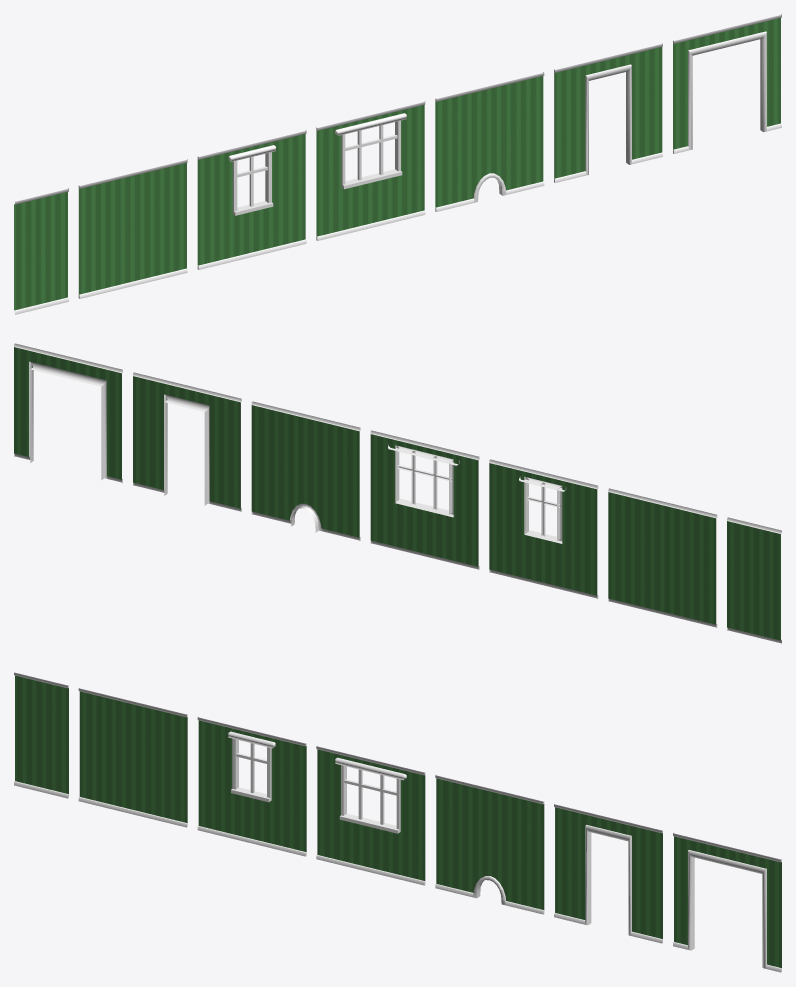
The model's file is Walls.fbx.
3 views of the same model, one above another, from view 1: azimuth 30°, elevation 25°; view 2: azimuth 150°, elevation 25°; view 3: azimuth 330°, elevation 25° (orthographic).
Parts seen in each view (by area): view 1: Wall_Normal, Wall_HouseHole, Wall_Window_Single, Wall_Window_Double, Wall_DoorWay_Small, Wall_Short, Wall_DoorWay_Wide; view 2: Wall_Normal, Wall_HouseHole, Wall_Window_Single, Wall_Window_Double, Wall_DoorWay_Small, Wall_DoorWay_Wide, Wall_Short; view 3: Wall_Normal, Wall_HouseHole, Wall_Window_Single, Wall_Window_Double, Wall_DoorWay_Small, Wall_Short, Wall_DoorWay_Wide.
Part boxes in pixels (bbox=[...]): Wall_Normal: bbox=[78, 159, 187, 298]; Wall_HouseHole: bbox=[435, 72, 544, 211]; Wall_Window_Single: bbox=[197, 130, 306, 269]; Wall_Window_Double: bbox=[316, 101, 425, 240]; Wall_DoorWay_Small: bbox=[554, 43, 662, 182]; Wall_Short: bbox=[14, 188, 68, 314]; Wall_DoorWay_Wide: bbox=[673, 14, 781, 153]; Wall_Normal: bbox=[608, 488, 717, 627]; Wall_HouseHole: bbox=[251, 401, 360, 540]; Wall_Window_Single: bbox=[489, 459, 598, 599]; Wall_Window_Double: bbox=[370, 430, 479, 569]; Wall_DoorWay_Small: bbox=[133, 372, 241, 511]; Wall_DoorWay_Wide: bbox=[14, 343, 122, 483]; Wall_Short: bbox=[727, 517, 781, 643]; Wall_Normal: bbox=[78, 688, 187, 827]; Wall_HouseHole: bbox=[435, 775, 544, 914]; Wall_Window_Single: bbox=[197, 716, 306, 856]; Wall_Window_Double: bbox=[316, 746, 425, 885]; Wall_DoorWay_Small: bbox=[554, 804, 662, 943]; Wall_Short: bbox=[14, 672, 68, 798]; Wall_DoorWay_Wide: bbox=[673, 832, 781, 972].
Size of the model in its own units: 0.71 by 0.1 by 0.00777.
Materials: 1 (1 with a texture image).
